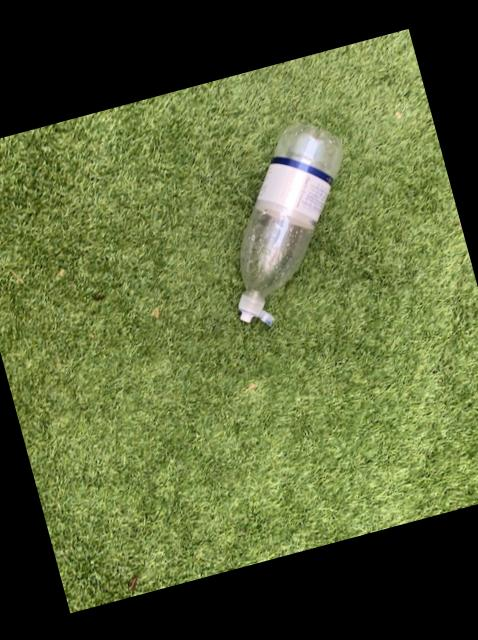plastic: (239, 121, 343, 321)
